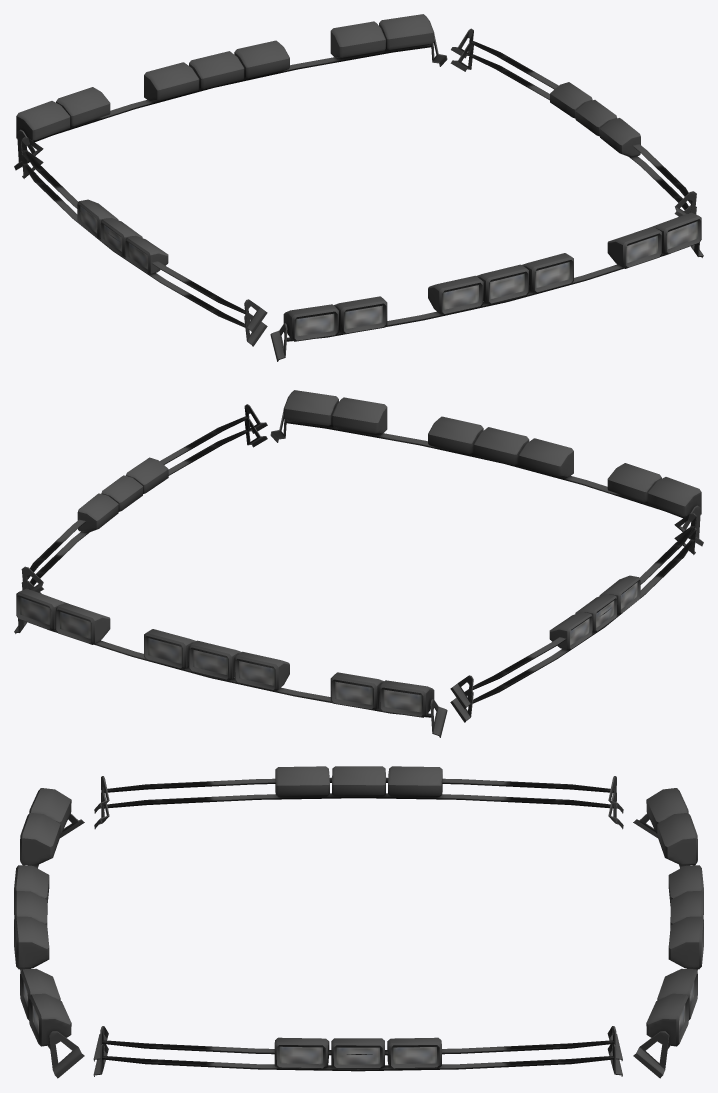
Rendered from Vehicles_ATAMustang66_Roof_Lights.fbx.
3 views of the same model, one above another, from view 1: azimuth 30°, elevation 25°; view 2: azimuth 150°, elevation 25°; view 3: azimuth 270°, elevation 25° (orthographic). The views are drawn at different scales.
Parts seen in each view (by area): view 1: light_front_1, light_rear_1, light_rear_2, roof_rails, light_right_1, light_left_1, rail_front, rail_left, rail_right, rail_rear, light_left_2; view 2: light_rear_1, light_front_1, light_front_2, roof_rails, light_right_1, light_left_1, rail_rear, rail_left, rail_right, rail_front, light_left_2; view 3: light_rear_1, light_front_1, roof_rails, light_left_1, light_right_1, rail_right, rail_left, light_right_2, rail_front, rail_rear.
Part boxes in pixels (x1,y1,x2,y2): light_front_1: (16,14,434,140); light_rear_1: (283,212,701,341); light_rear_2: (296,221,697,336); roof_rails: (21,43,696,346); light_right_1: (550,82,640,157); light_left_1: (77,199,168,274); rail_front: (14,34,447,170); rail_left: (21,137,267,333); rail_right: (451,28,696,216); rail_rear: (270,242,703,361); light_left_2: (80,206,147,269); light_rear_1: (283,390,701,516); light_front_1: (16,588,434,717); light_front_2: (20,597,421,712); roof_rails: (21,418,696,722); light_right_1: (77,457,168,532); light_left_1: (549,575,640,650); rail_rear: (270,410,703,546); rail_left: (450,513,696,709); rail_right: (21,404,267,592); rail_front: (14,618,447,737); light_left_2: (570,582,637,645); light_rear_1: (14,788,71,1046); light_front_1: (646,788,703,1046); roof_rails: (93,793,623,1076); light_left_1: (275,766,442,797); light_right_1: (274,1037,441,1068); rail_right: (93,1026,622,1061); rail_left: (94,776,623,813); light_right_2: (279,1046,436,1064); rail_front: (633,813,697,1078); rail_rear: (20,813,84,1078).
Bounding box in the file's own units: 154 × 14.91 × 161.
